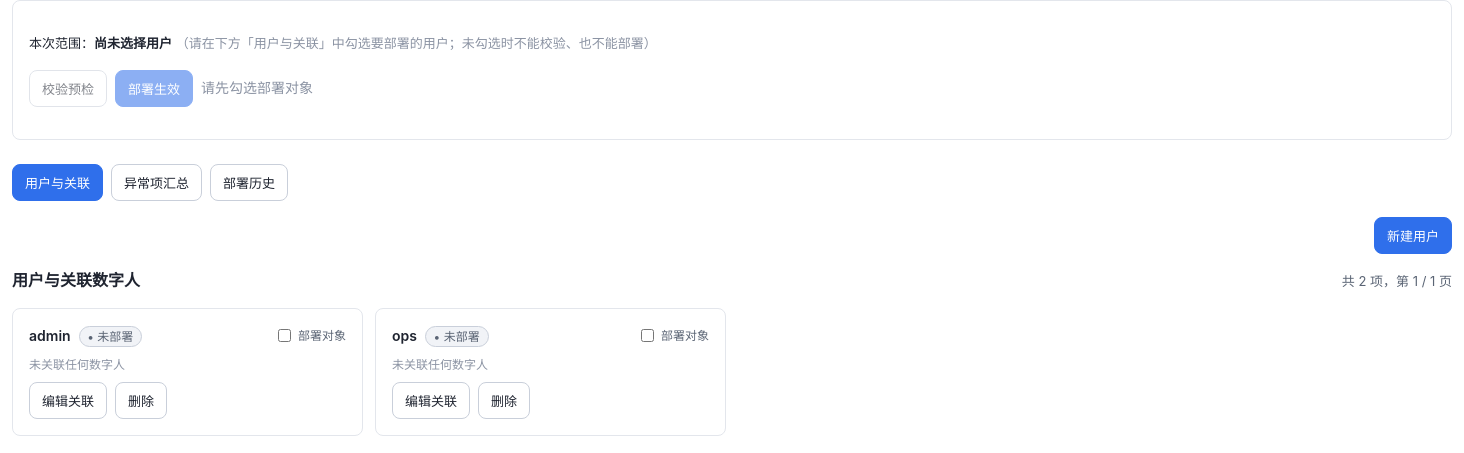
DeployArea —— 勾选部署对象 › 取消勾选后：重新回到"不能校验、不能部署"
The width and height of the screenshot is (1464, 453).
Step 1. Click the checkbox labelled "部署对象" in the row of "admin" → [284, 336], box [278, 329, 291, 342]
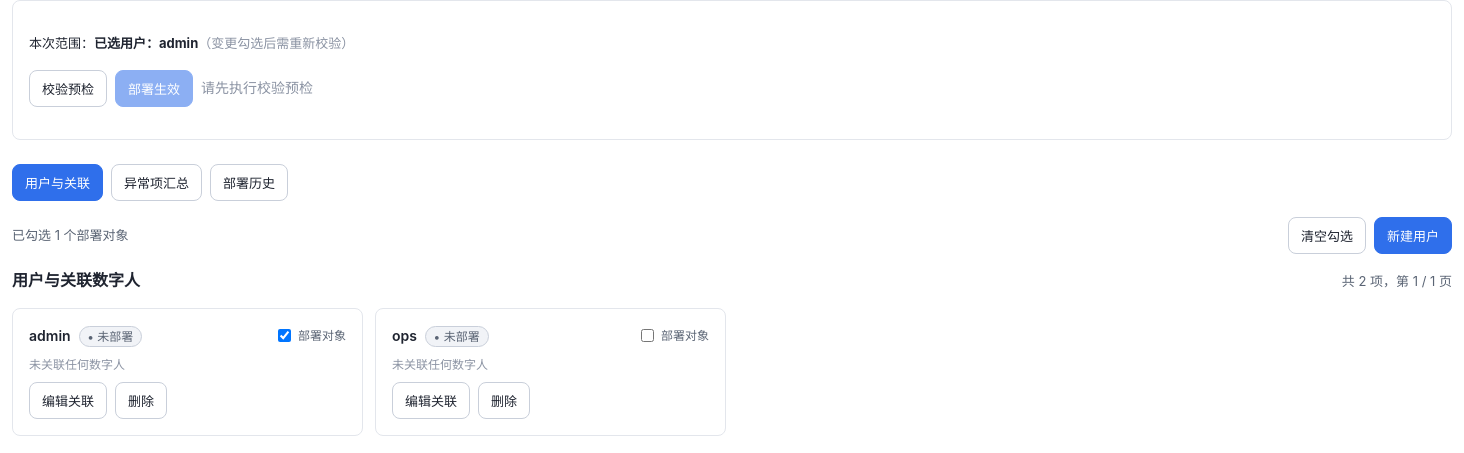
Result: the button "校验预检" is enabled at [29, 70, 107, 107]
Step 2. Click the 1st checkbox labelled "部署对象" → [284, 336], box [278, 329, 291, 342]
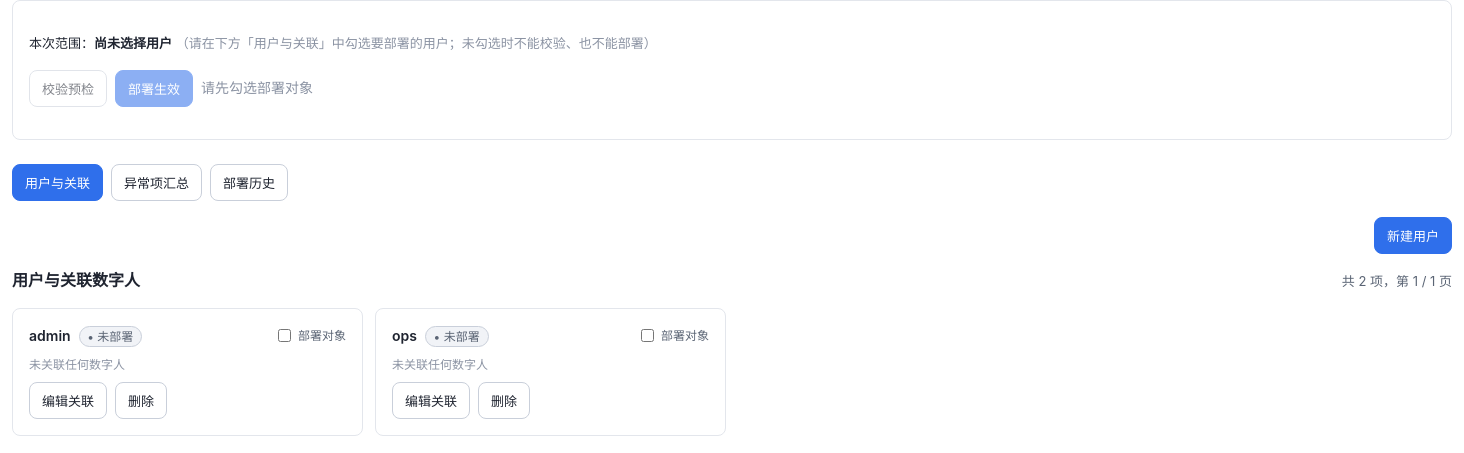
Result: the button "校验预检" is disabled at [29, 70, 107, 107]
Result: the text "尚未选择用户" is shown at [94, 35, 172, 51]
